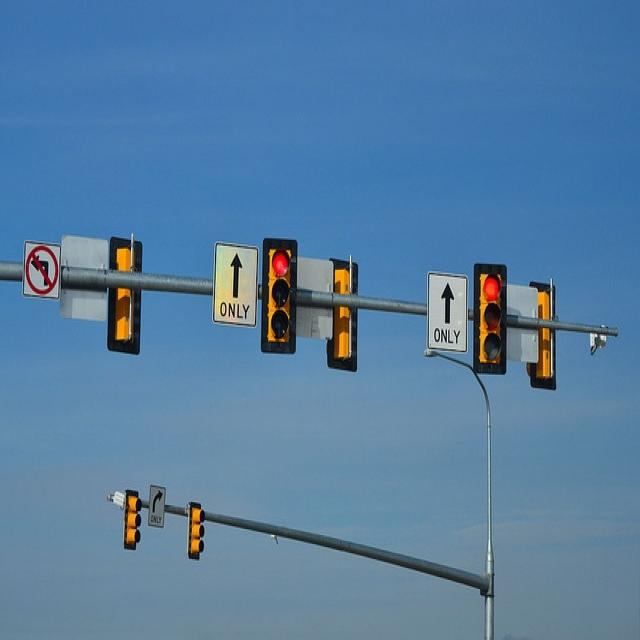red: (272, 252, 288, 280), (482, 280, 499, 300)
